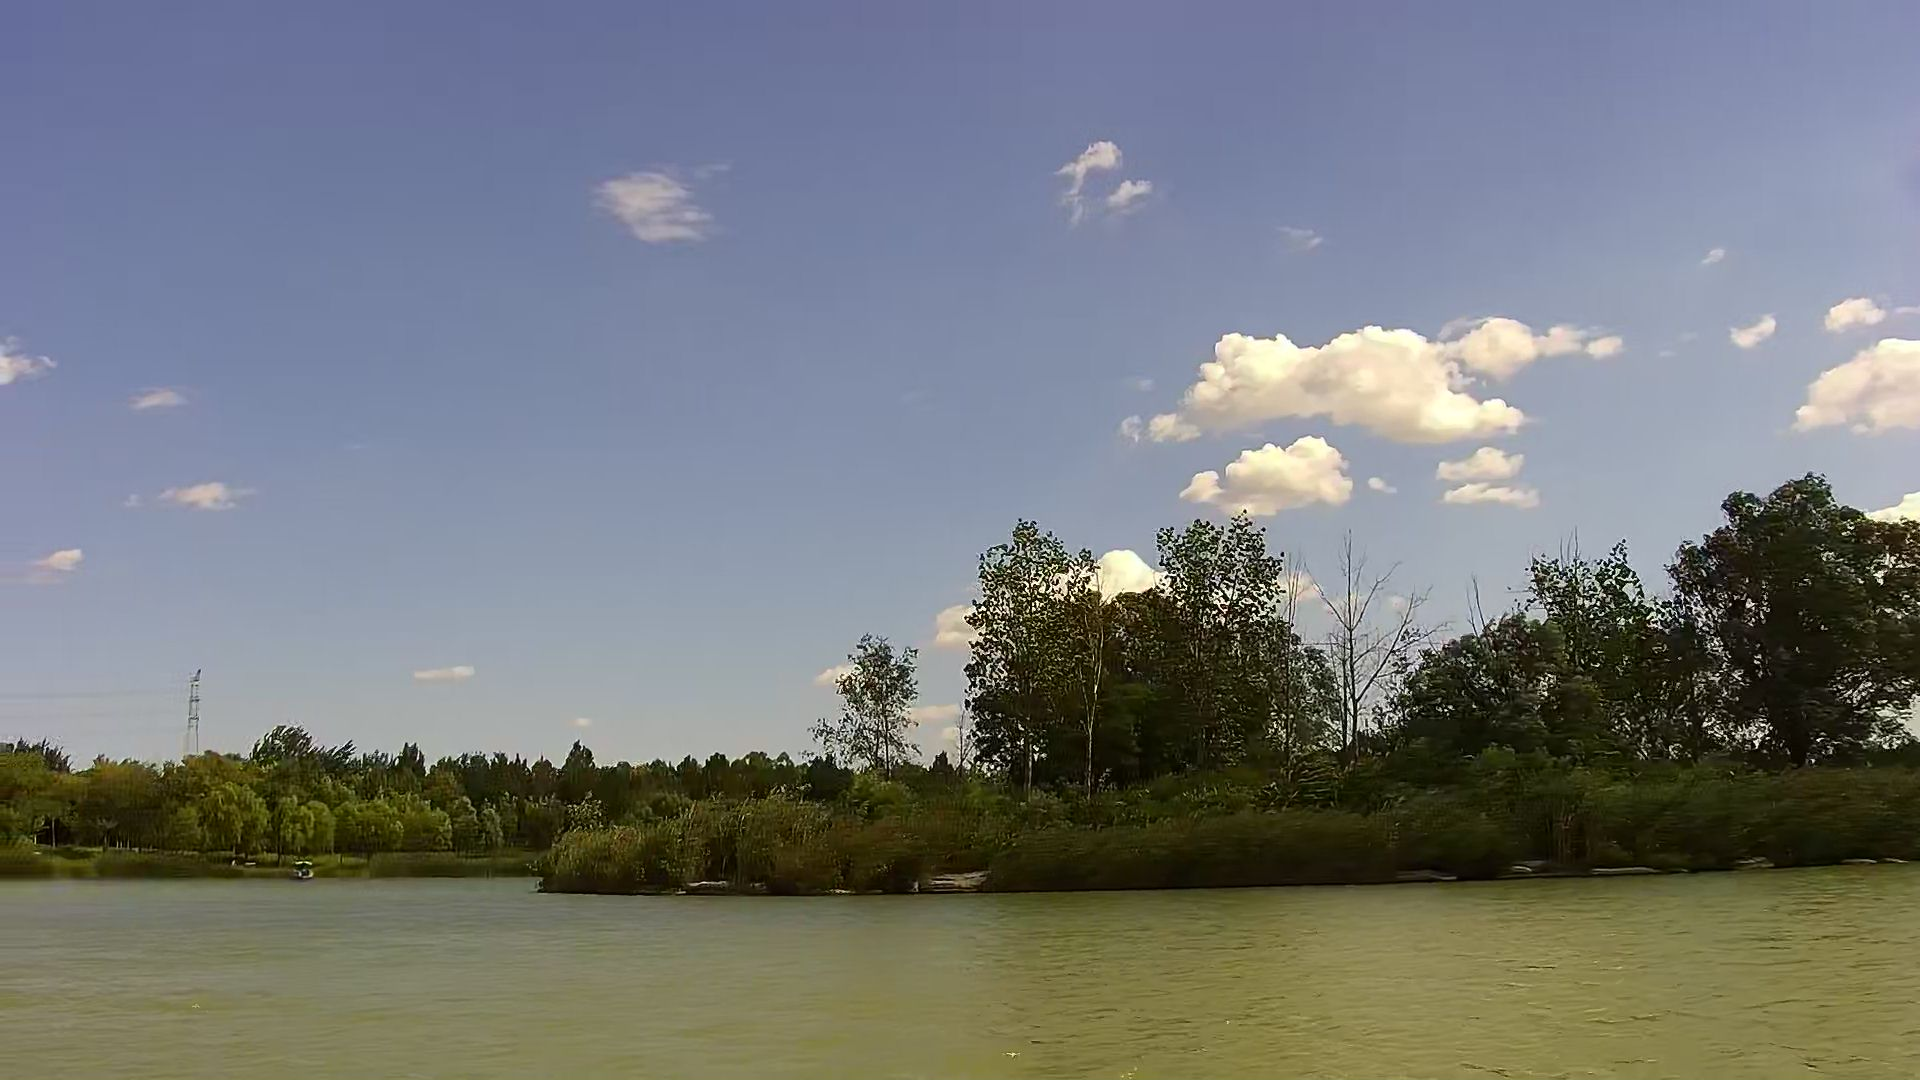boat: (287, 857, 313, 884)
rock: (919, 872, 986, 890), (1593, 862, 1662, 878), (683, 876, 740, 894), (1509, 857, 1549, 878), (1735, 848, 1771, 864)
